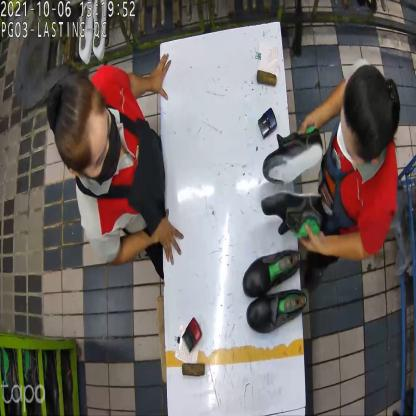shoes: (260, 132, 330, 234), (241, 250, 308, 334)
stamp: (179, 318, 204, 352), (258, 106, 277, 139)
